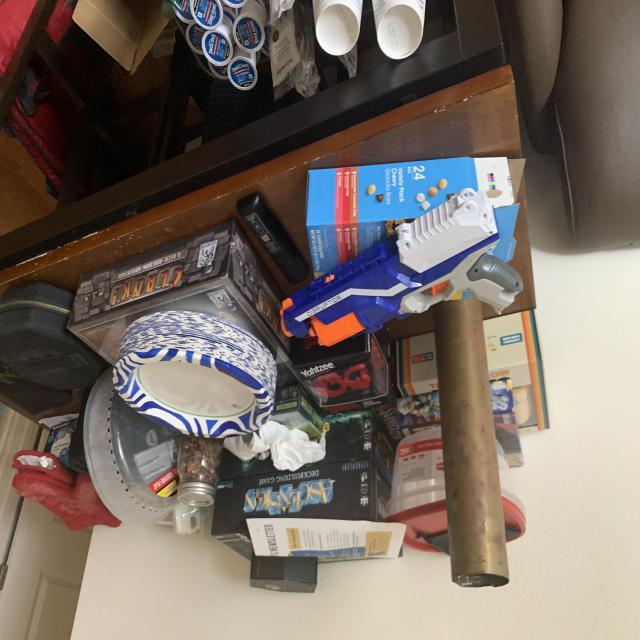nerf-maverik: (274, 186, 530, 353)
